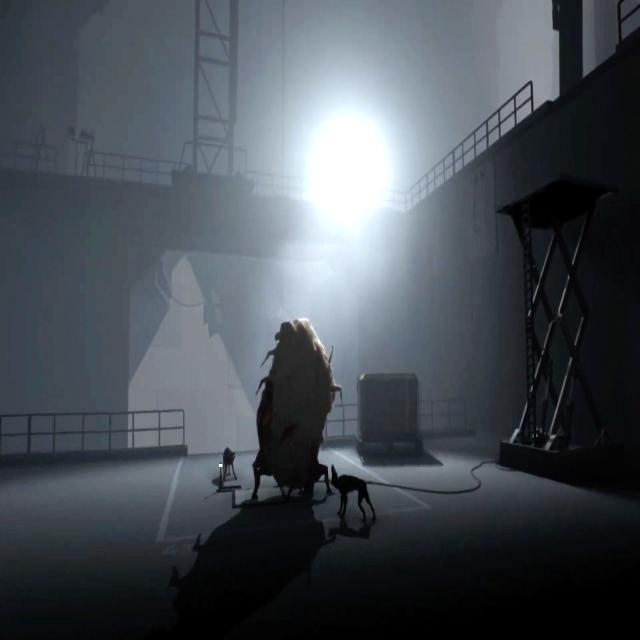blob: (252, 322, 344, 502)
dog: (330, 466, 377, 520), (222, 447, 237, 482)
mechanism: (497, 172, 626, 491)
structure: (405, 80, 535, 212), (0, 406, 185, 455), (192, 0, 238, 181), (244, 168, 408, 212), (83, 150, 191, 180), (0, 142, 59, 166)
